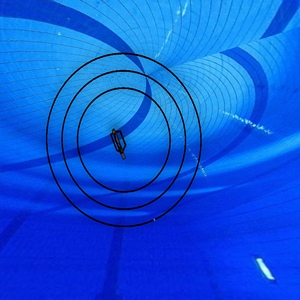circle: (41, 50, 207, 234)
submarine: (105, 124, 137, 166)
